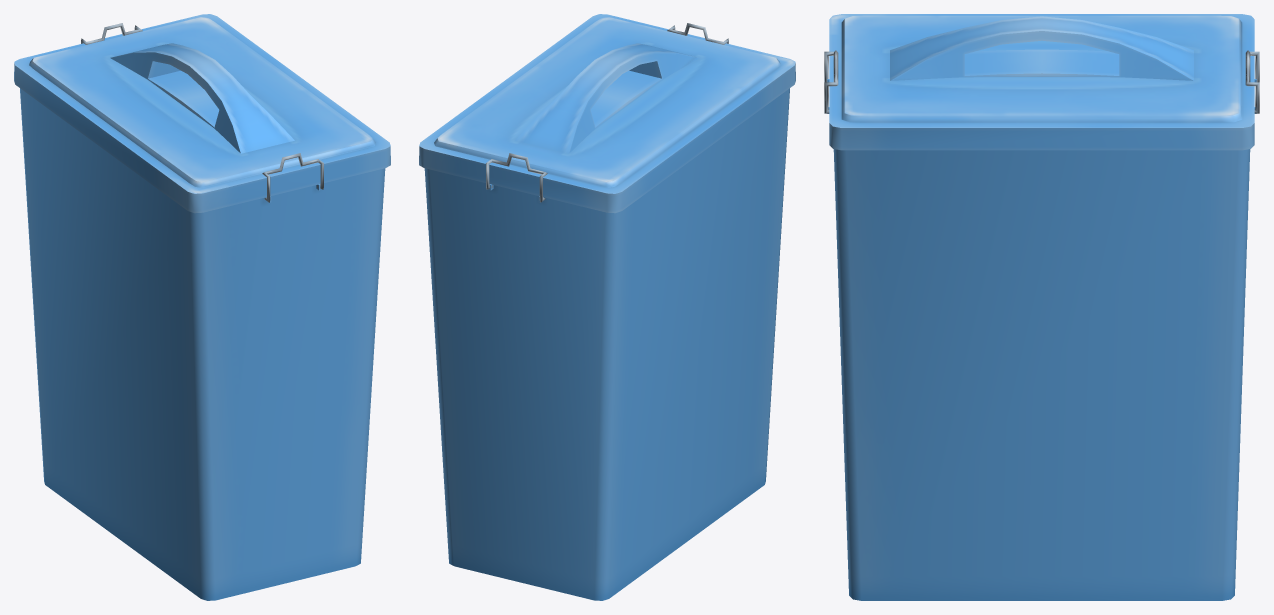
Rendered from KR_Garbage_can_01_03.fbx.
3 views of the same model, side by side, from view 1: azimuth 30°, elevation 25°; view 2: azimuth 150°, elevation 25°; view 3: azimuth 270°, elevation 25° (orthographic). The views are drawn at different scales.
Visible parts, largest first — view 1: shw_garbage_can01, lid01, fastener01; view 2: shw_garbage_can01, lid01, fastener02; view 3: shw_garbage_can01, lid01.
Boxes of the visible parts, x1,y1,x2,y2 form: shw_garbage_can01: [20, 88, 385, 600]; lid01: [14, 14, 390, 213]; fastener01: [262, 153, 323, 202]; shw_garbage_can01: [424, 88, 789, 600]; lid01: [419, 14, 795, 213]; fastener02: [486, 153, 547, 202]; shw_garbage_can01: [827, 79, 1256, 600]; lid01: [829, 14, 1254, 150].
Size of the model in its own units: 27.8 by 60.46 by 44.84.
